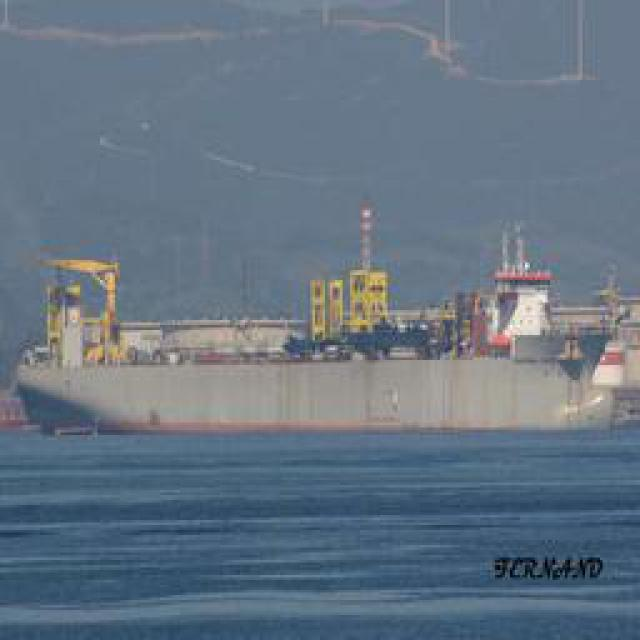Ship: (23, 250, 628, 440)
